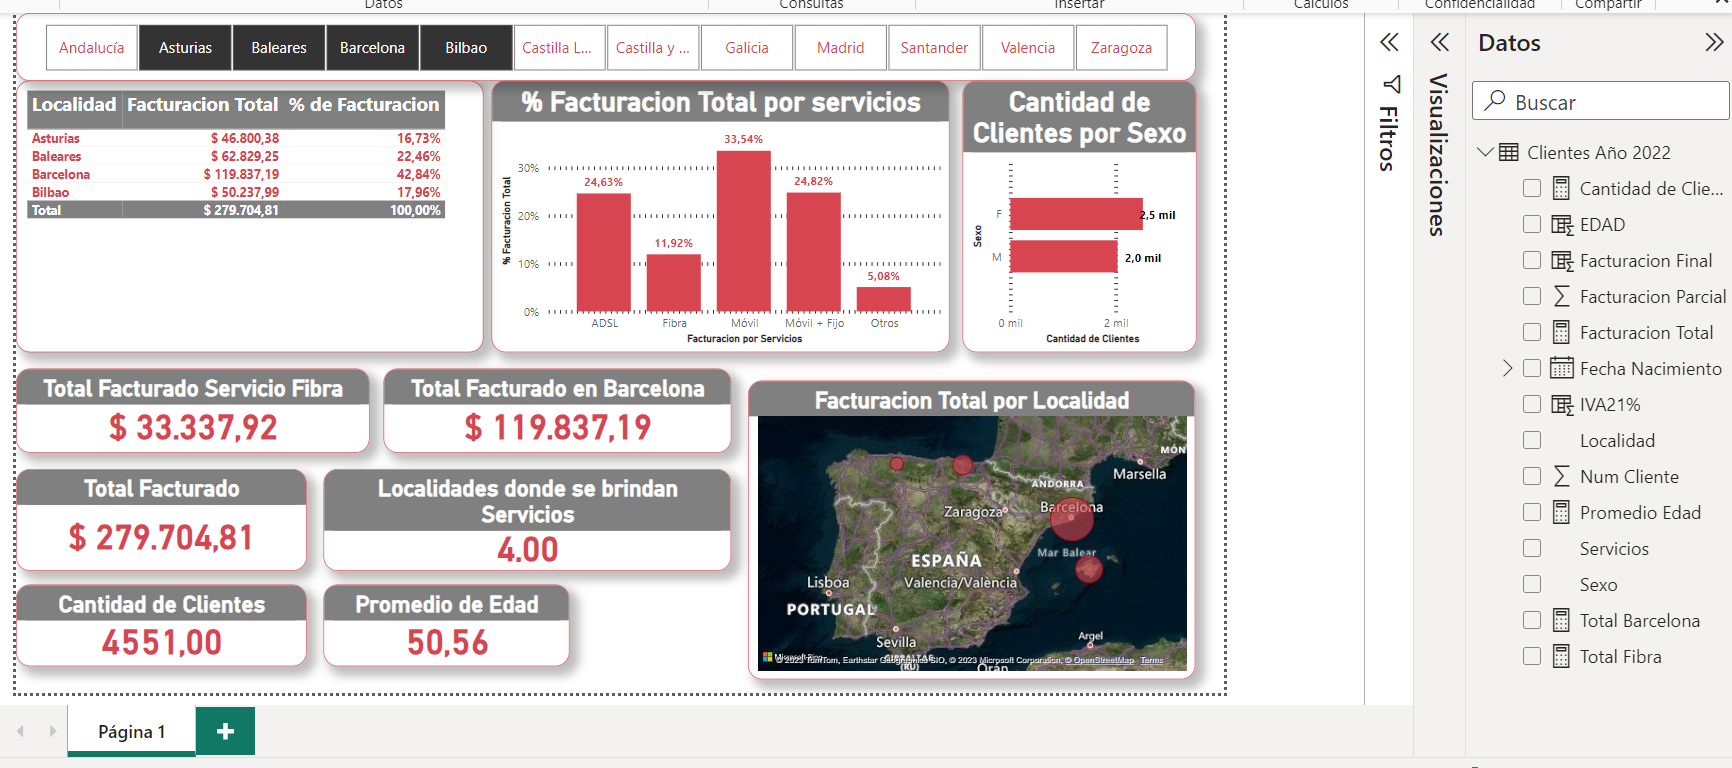

This screenshot's page, from the dashboard's own definition file:
{"tool":"powerbi","page":{"name":"Página 1","canvas":[1280,720],"ordinal":0},"visuals":[{"type":"card","title":"Total Facturado","fields":{"Values":["Clientes Año 2022.Facturacion Total"]},"box":[0,482.4,308.2,108],"z":0},{"type":"card","title":"Cantidad de Clientes","fields":{"Values":["Clientes Año 2022.Cantidad de Clientes"]},"box":[0,604.8,308.2,86.4],"z":1000},{"type":"card","title":"Promedio de Edad","fields":{"Values":["Clientes Año 2022.Promedio Edad"]},"box":[325.4,604.8,260.6,86.4],"z":2000},{"type":"card","title":"Total Facturado en Barcelona","fields":{"Values":["Clientes Año 2022.Total Barcelona"]},"box":[388.8,377.3,368.6,89.3],"z":3000},{"type":"card","title":"Total Facturado Servicio Fibra","fields":{"Values":["Clientes Año 2022.Total Fibra"]},"box":[0,377.3,374.4,89.3],"z":4000},{"type":"card","title":"Localidades donde se brindan Servicios ","fields":{"Values":["Count(Clientes Año 2022.Localidad)"]},"box":[325.4,482.4,432,108],"z":5000},{"type":"tableEx","fields":{"Values":["Clientes Año 2022.Localidad","Clientes Año 2022.Facturacion Total","Divide(Clientes Año 2022.Facturacion Total, ScopedEval(Clientes Año 2022.Facturacion Total, []))"]},"box":[0,72,495.4,288],"z":6000},{"type":"clusteredColumnChart","title":"% Facturacion Total por servicios","fields":{"Y":["Clientes Año 2022.Facturacion Total"],"Category":["Clientes Año 2022.Servicios"]},"box":[504,72,485.3,288],"z":7000},{"type":"map","fields":{"Category":["Clientes Año 2022.Localidad"],"Size":["Clientes Año 2022.Facturacion Total"]},"box":[776.2,388.8,473.8,316.8],"z":8000},{"type":"slicer","fields":{"Values":["Clientes Año 2022.Localidad"]},"box":[0,0,1249.9,72],"z":9000},{"type":"clusteredBarChart","fields":{"Category":["Clientes Año 2022.Sexo"],"Y":["Clientes Año 2022.Cantidad de Clientes"]},"box":[1002.2,72,247.7,288],"z":9001}]}

Visuals, with their boxes on the page's 1280x720 design canvas (x1, y1, x2, y2). These are canvas units, not pixel positions in the 1732x768 screenshot, which may show the page scaled, cropped or inside an application window:
"Total Facturado" card: (left=0, top=482, right=308, bottom=590)
"Cantidad de Clientes" card: (left=0, top=605, right=308, bottom=691)
"Promedio de Edad" card: (left=325, top=605, right=586, bottom=691)
"Total Facturado en Barcelona" card: (left=389, top=377, right=757, bottom=467)
"Total Facturado Servicio Fibra" card: (left=0, top=377, right=374, bottom=467)
"Localidades donde se brindan Servicios " card: (left=325, top=482, right=757, bottom=590)
tableEx - Clientes Año 2022.Localidad x Clientes Año 2022.Facturacion Total: (left=0, top=72, right=495, bottom=360)
"% Facturacion Total por servicios" clusteredColumnChart: (left=504, top=72, right=989, bottom=360)
map - Clientes Año 2022.Localidad x Clientes Año 2022.Facturacion Total: (left=776, top=389, right=1250, bottom=706)
slicer - Clientes Año 2022.Localidad: (left=0, top=0, right=1250, bottom=72)
clusteredBarChart - Clientes Año 2022.Sexo x Clientes Año 2022.Cantidad de Clientes: (left=1002, top=72, right=1250, bottom=360)
